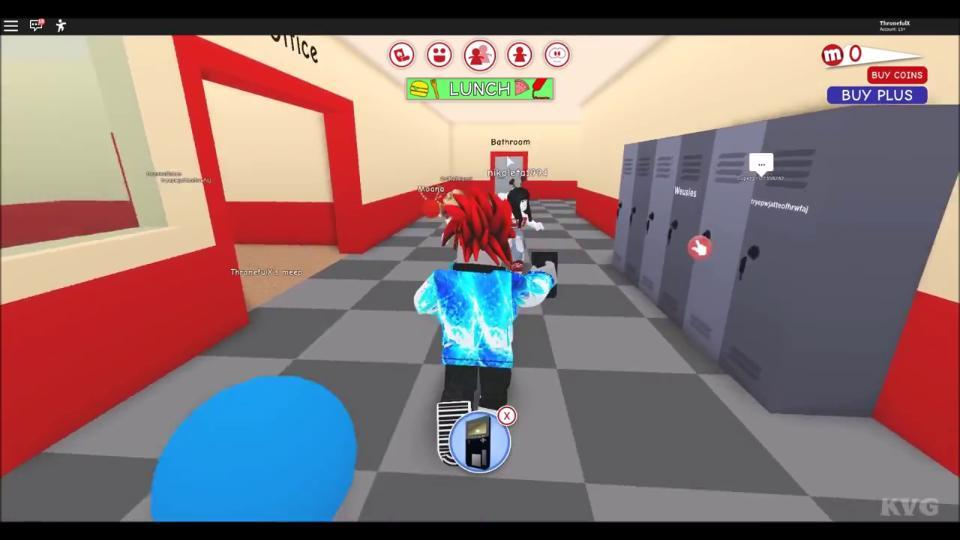Character: (416, 188, 558, 468), (507, 174, 543, 262)
